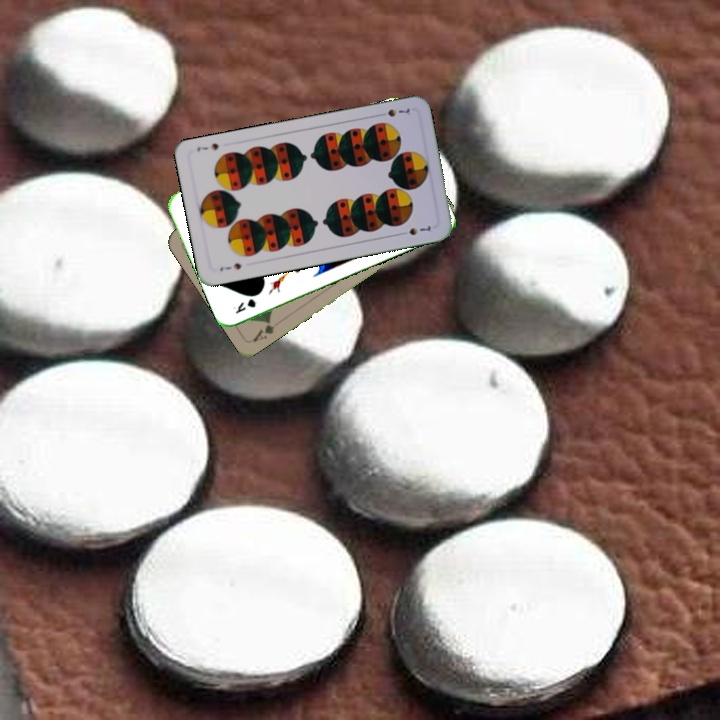GA: (248, 316, 277, 345)
GK: (229, 294, 258, 316)
S7: (374, 104, 412, 119), (216, 259, 244, 274)
